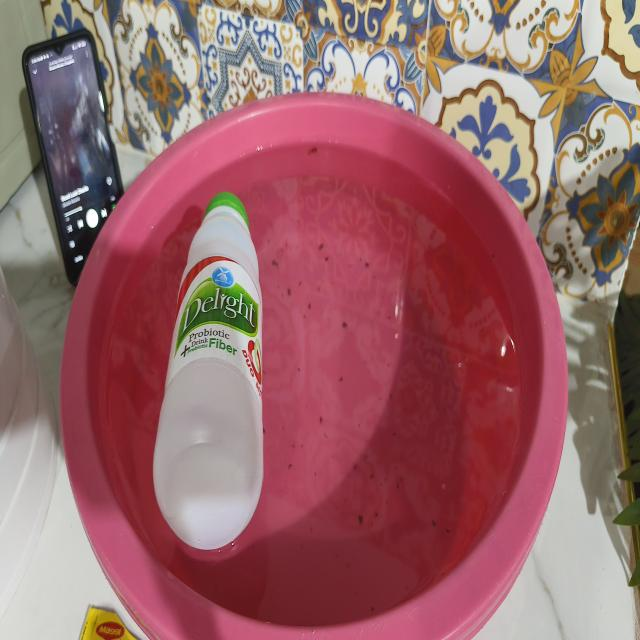Plastic Bottle: (153, 193, 263, 521)
